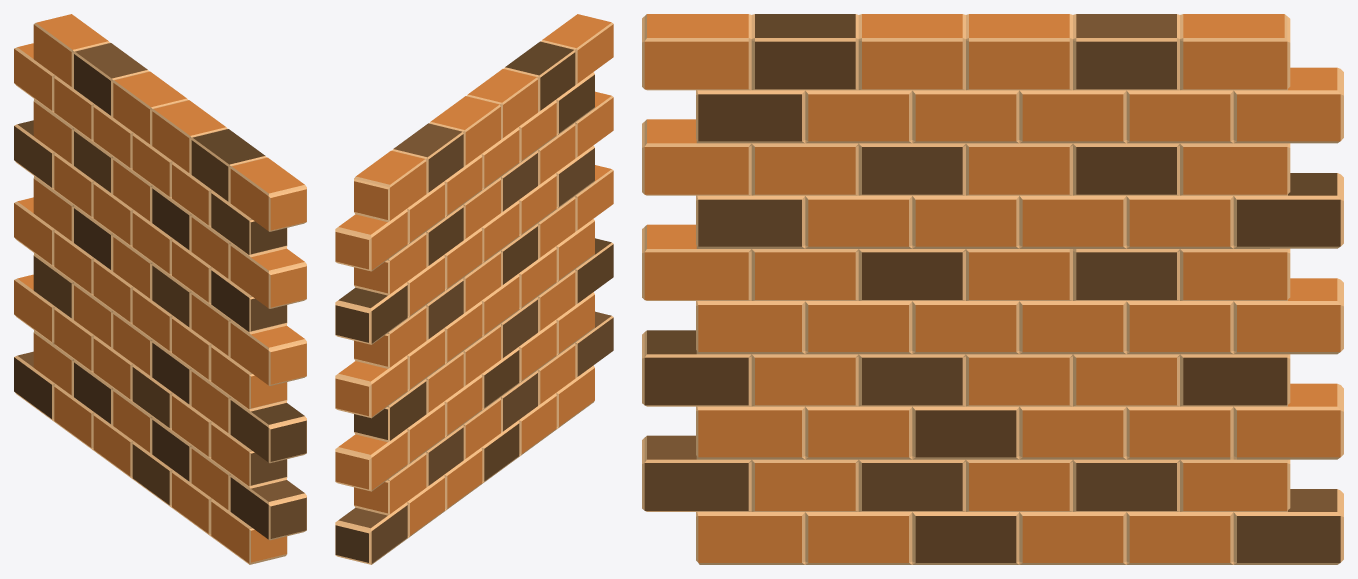
Rendered from Wall.fbx.
The picture shows the model from 3 angles, left to right: view 1: azimuth 30°, elevation 25°; view 2: azimuth 150°, elevation 25°; view 3: azimuth 270°, elevation 25°; orthographic projection. The views are drawn at different scales.
Parts seen in each view (by area): view 1: Cube; view 2: Cube; view 3: Cube.
Boxes of the visible parts, left/top/right/bottom form: Cube: left=14, top=14, right=306, bottom=564; Cube: left=335, top=14, right=613, bottom=564; Cube: left=642, top=14, right=1343, bottom=564.
Size of the model in its own units: 93.67 by 905 by 1092.
